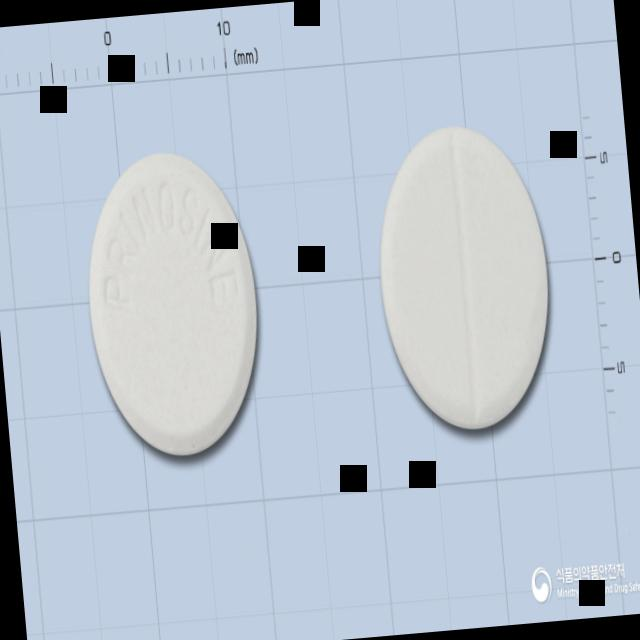Clari: (76, 144, 272, 464), (368, 117, 562, 440)
